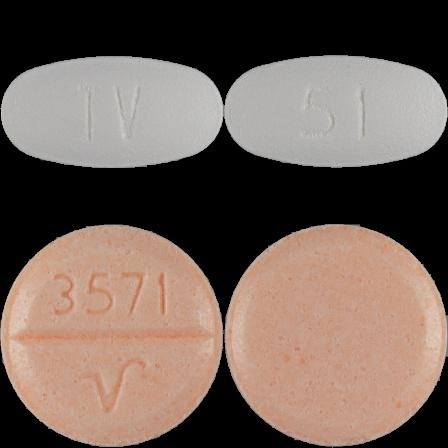61786-903: (0, 0, 224, 224)
